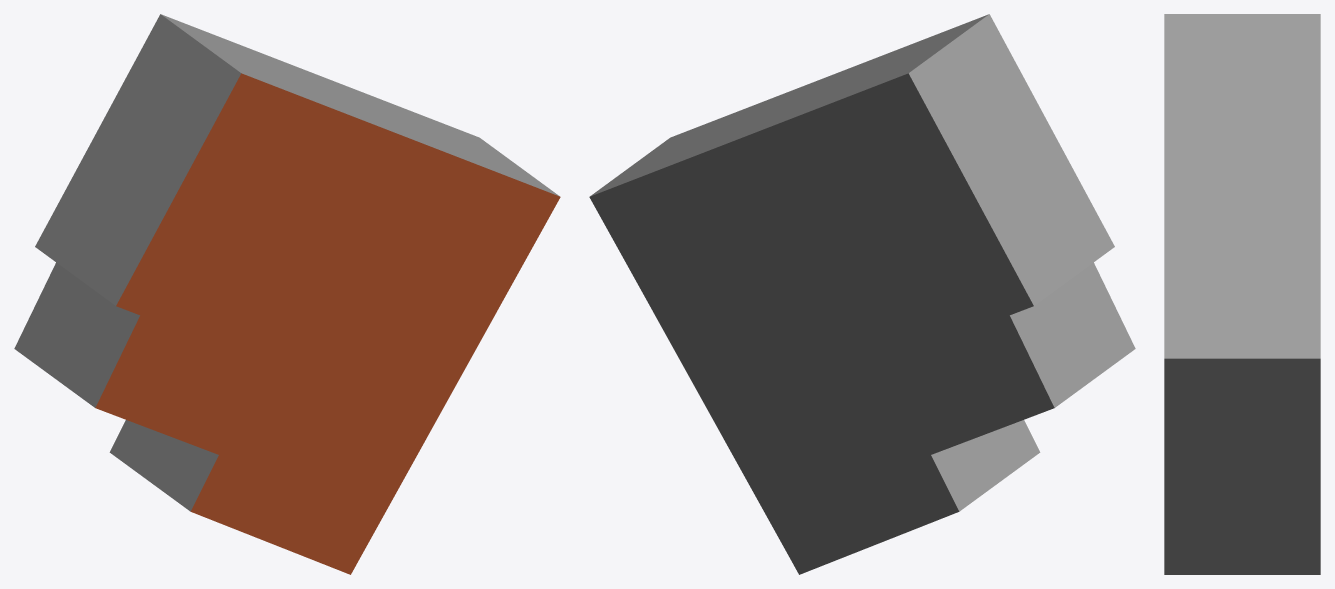
Rendered from construction_4194_assumed_A_Casa_h6m.obj.
3 views of the same model, side by side, from view 1: azimuth 30°, elevation 25°; view 2: azimuth 150°, elevation 25°; view 3: azimuth 270°, elevation 25° (orthographic). The views are drawn at different scales.
Visible parts, largest first — view 1: construction_4194_assumed_A_Casa; view 2: construction_4194_assumed_A_Casa; view 3: construction_4194_assumed_A_Casa.
Part boxes in pixels (box(x1,y1,x2,y2)): construction_4194_assumed_A_Casa: box(14, 14, 560, 574); construction_4194_assumed_A_Casa: box(589, 14, 1135, 574); construction_4194_assumed_A_Casa: box(1164, 14, 1320, 574).
Size of the model in its own units: 19.89 by 21.58 by 6.
